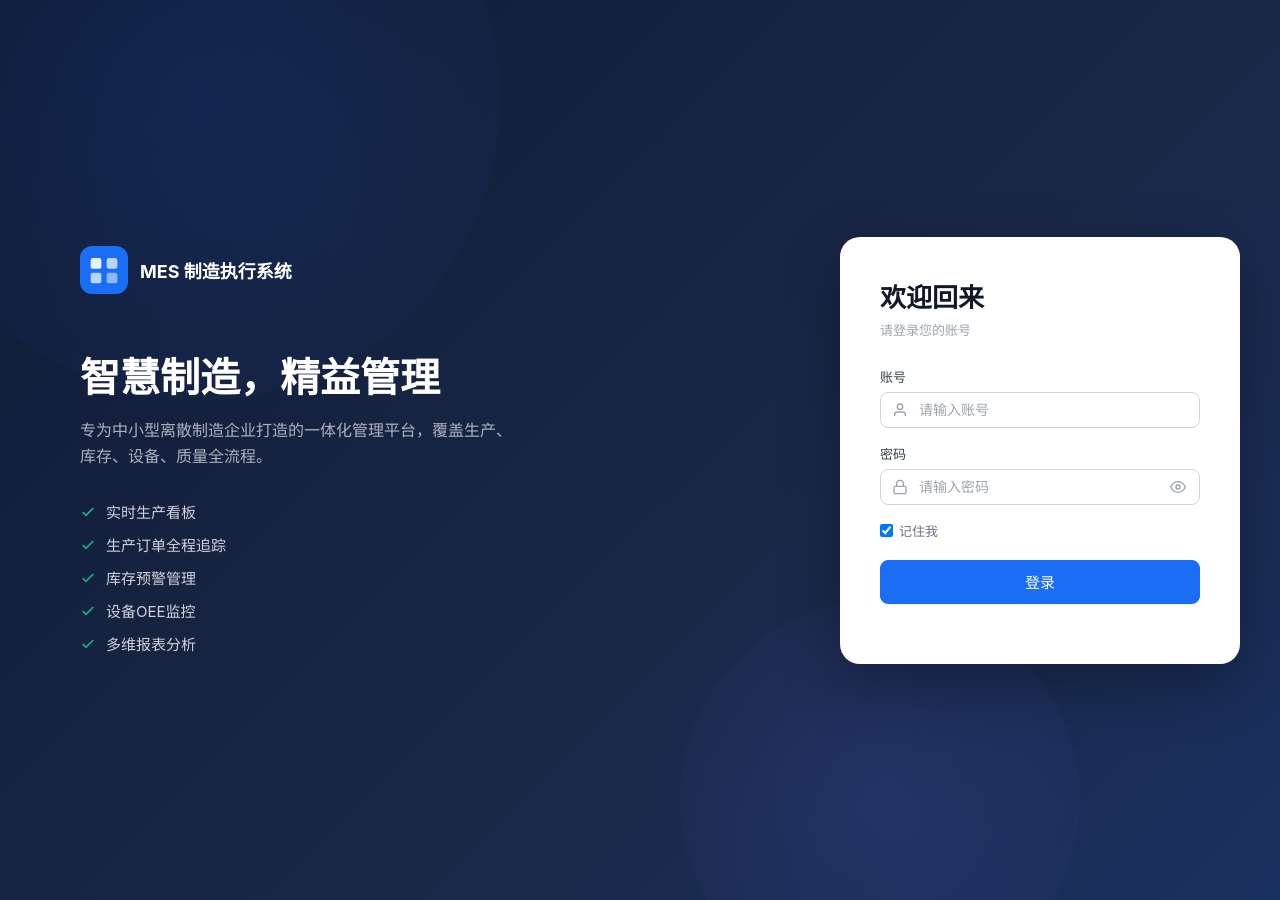
Test case: Login.vue › displays API error message on login failure
Type "admin" into the field with placeholder "请输入账号" at (1040, 410), box [880,392,1200,428]
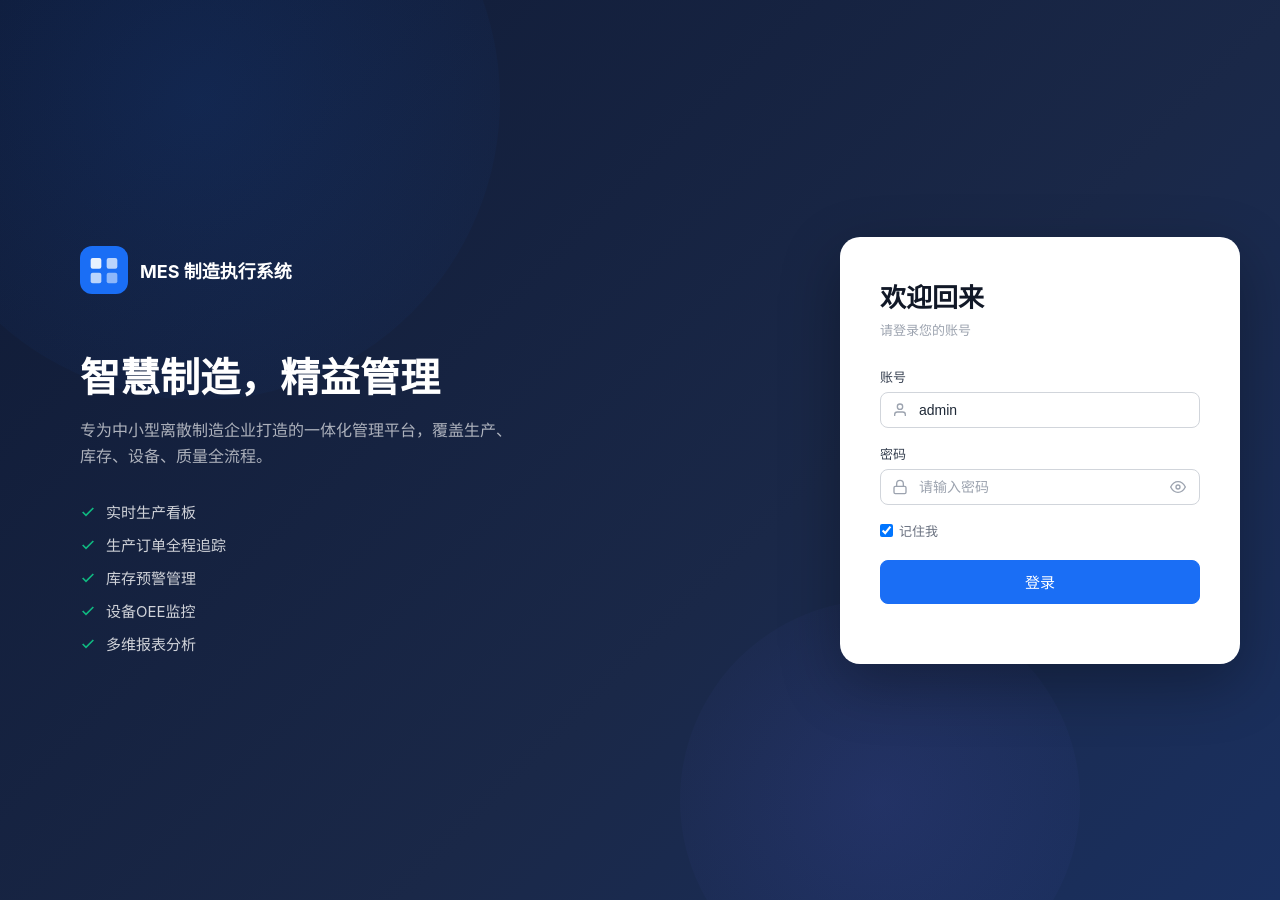
Type "wrong" into the password field with placeholder "请输入密码" at (1040, 486), box [880,468,1200,504]
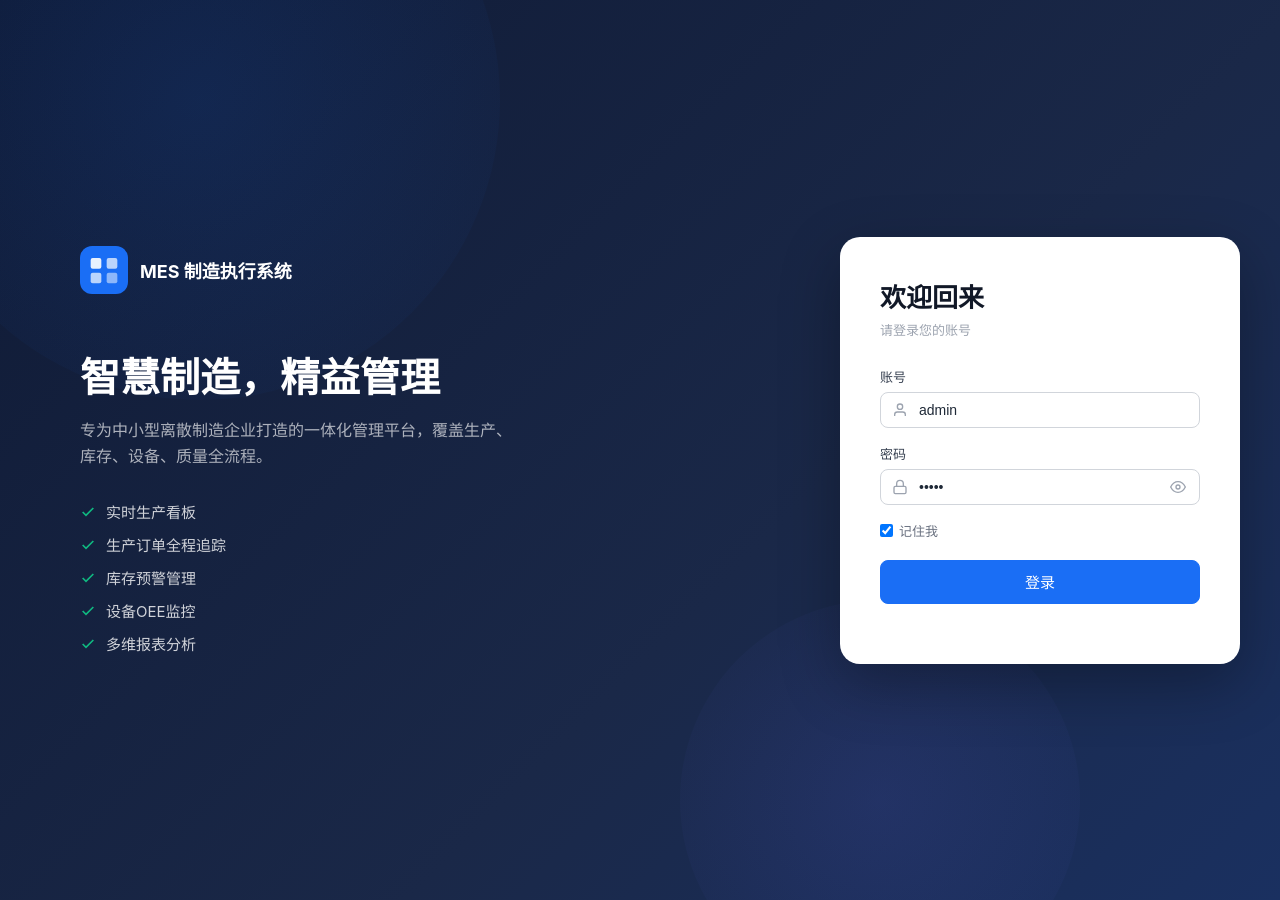
Submit the form, box [880,366,1200,604]
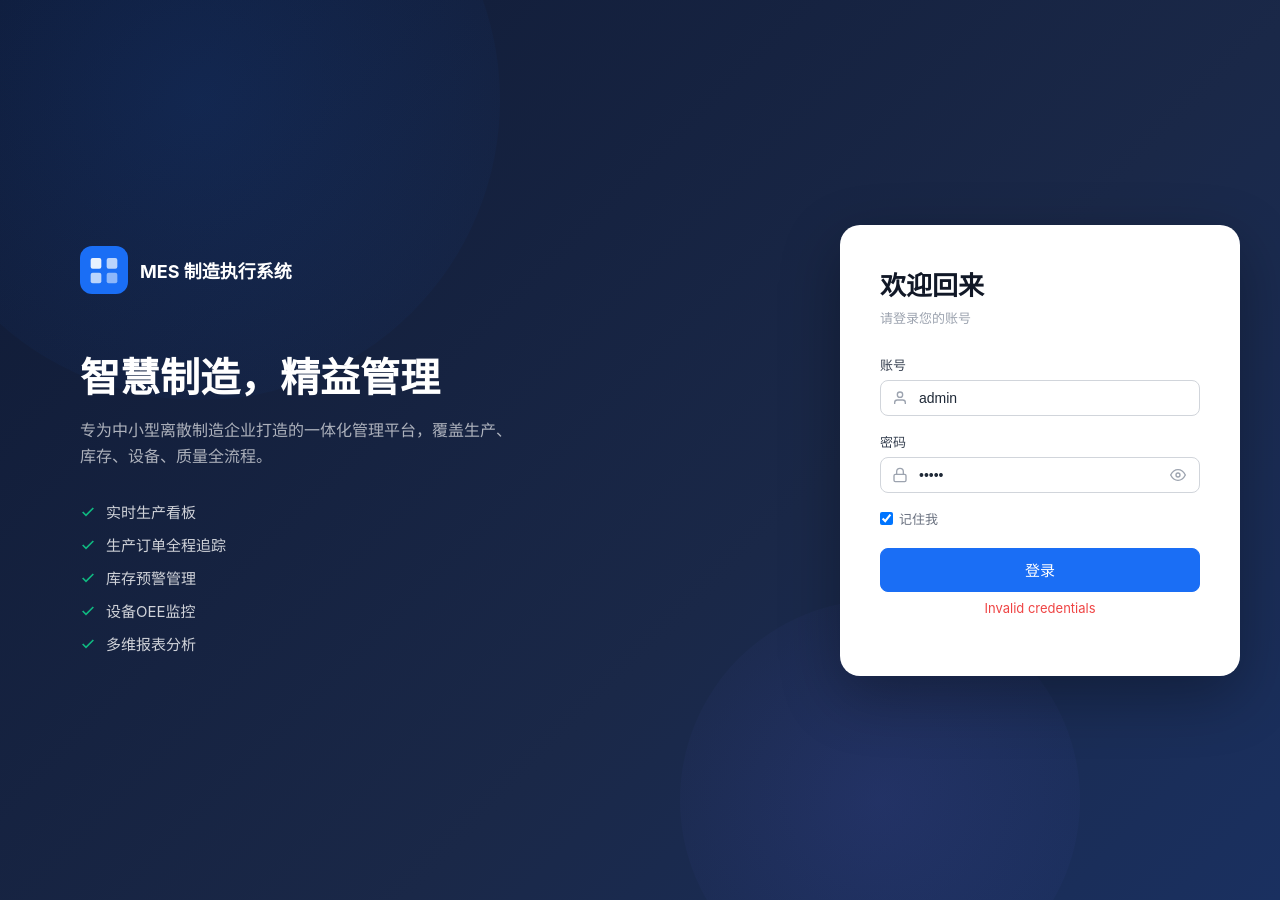
Expected: the text "Invalid credentials" is shown, [984,600,1096,616]
